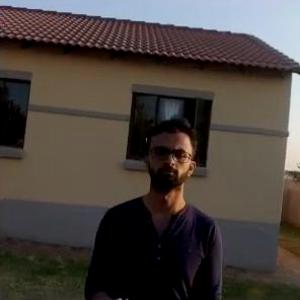follow: (78, 110, 227, 299)
